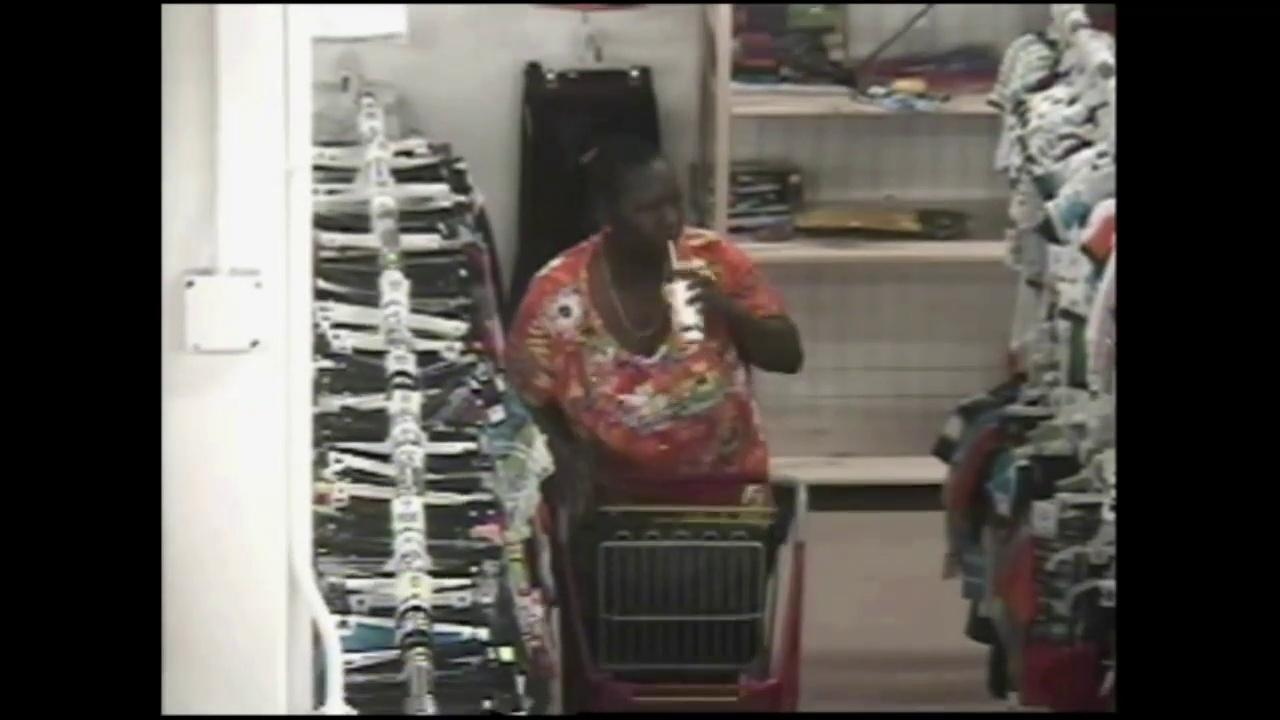Product: (651, 258, 734, 344)
Product-Picked: (495, 158, 875, 612)
Shopping-Cart: (541, 528, 795, 719)
